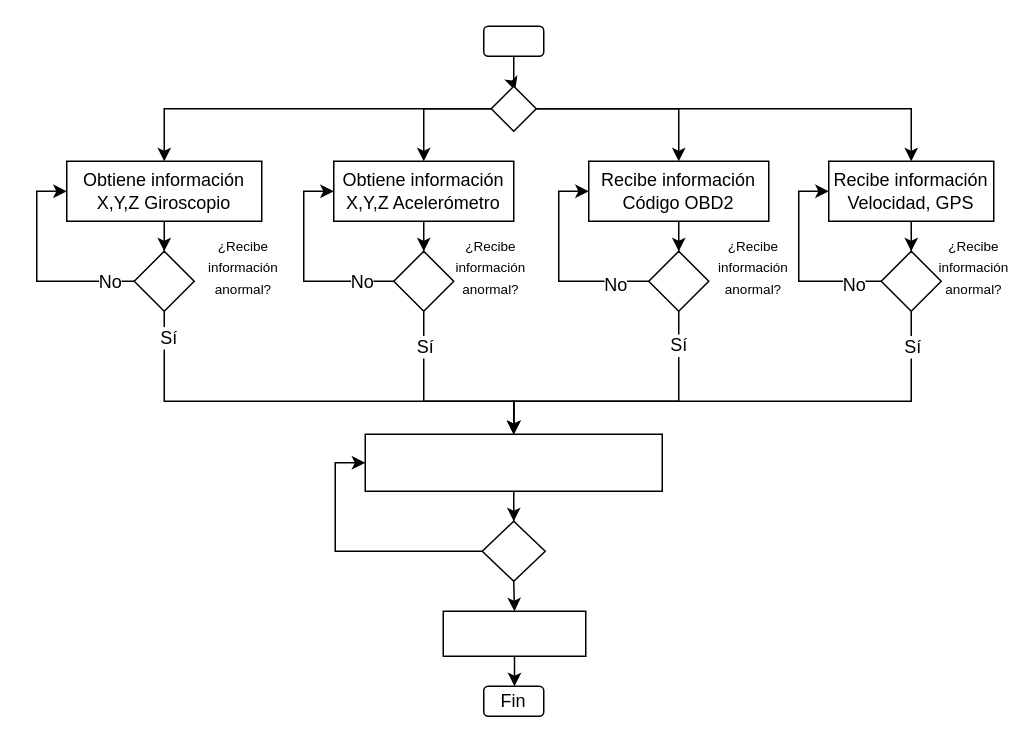
This 1035x743 diagram has some shape labels left out. The centre of each missing label's shape, as x and y in pixels:
"Evalúa información periféricos" goes at point (513, 462).
"Genera Alerta" goes at point (514, 633).
"Inicio" goes at point (513, 40).
